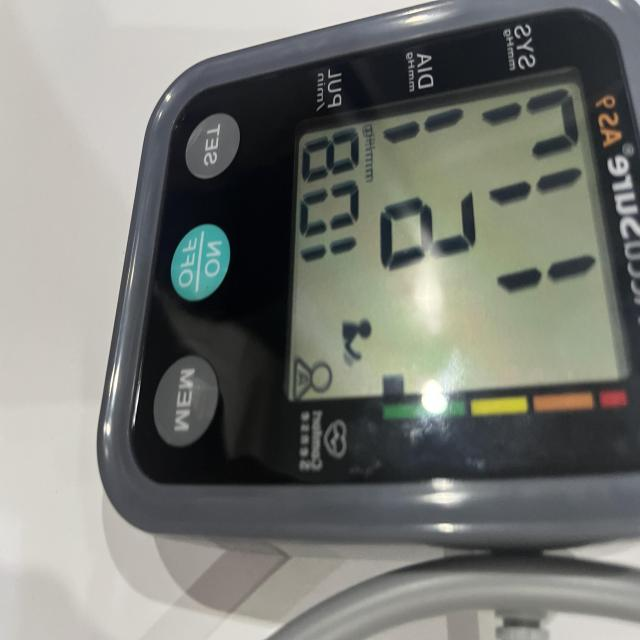bp: (95, 0, 640, 557)
